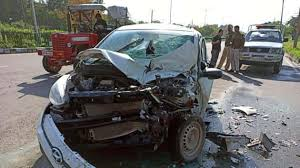accident: (12, 51, 266, 168)
